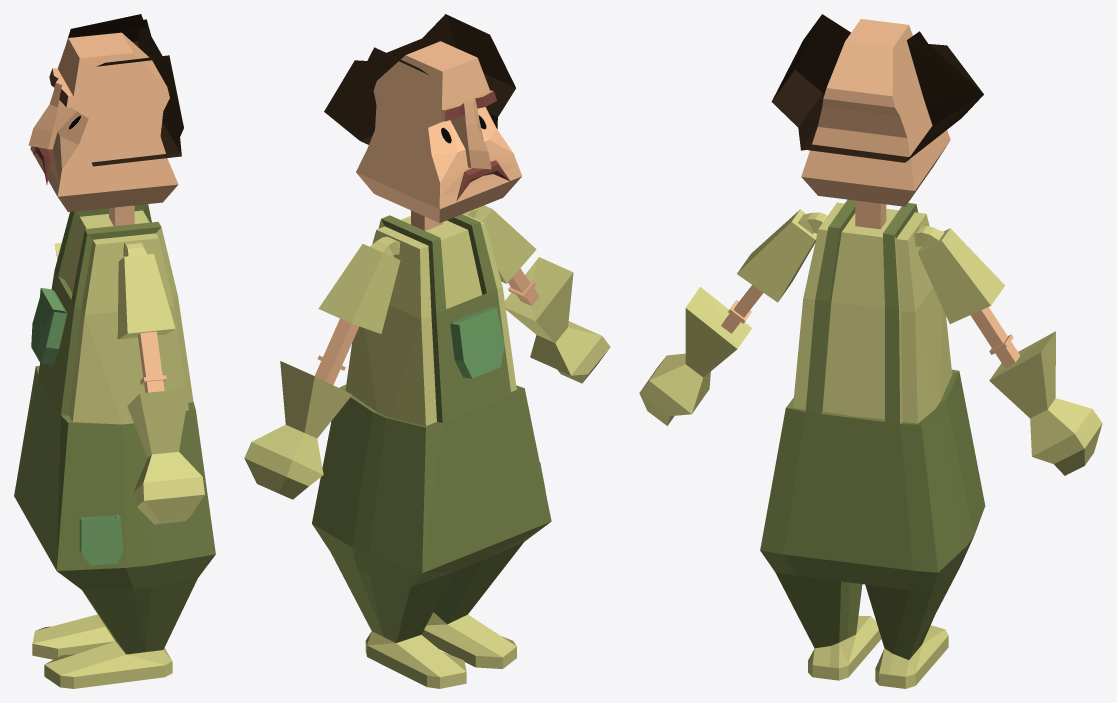
The model's file is C-tall+hair.FBX.
The picture shows the model from 3 angles, left to right: view 1: azimuth 30°, elevation 25°; view 2: azimuth 150°, elevation 25°; view 3: azimuth 270°, elevation 25°; orthographic projection. The views are drawn at different scales.
Visible parts, largest first — view 1: Tall ch, Tall ch hair, Sphere002; view 2: Tall ch, Tall ch hair, Sphere002; view 3: Tall ch, Tall ch hair.
Boxes of the visible parts, box(x1,y1,x2,y2) form: Tall ch: box(14, 32, 215, 688); Tall ch hair: box(67, 14, 183, 166); Sphere002: box(33, 147, 51, 184); Tall ch: box(244, 41, 610, 688); Tall ch hair: box(324, 14, 515, 144); Sphere002: box(456, 160, 510, 200); Tall ch: box(639, 19, 1102, 688); Tall ch hair: box(771, 14, 983, 162).
Bounding box in the file's own units: 1.46 × 4.82 × 3.2.
